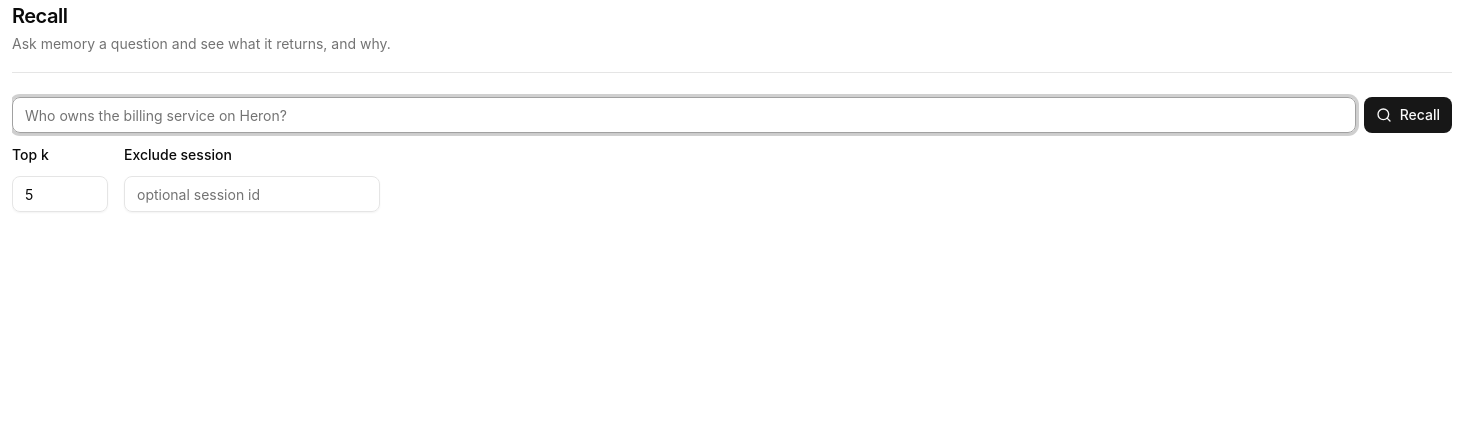
Test case: RecallPage › shows that a question was read as one about the past, and when a hit stopped holding
Type "who owned billing in April 2025?" into the field named "Query".
click(684, 115); type("who owned billing in April 2025?")  # box [12,97,1356,133]
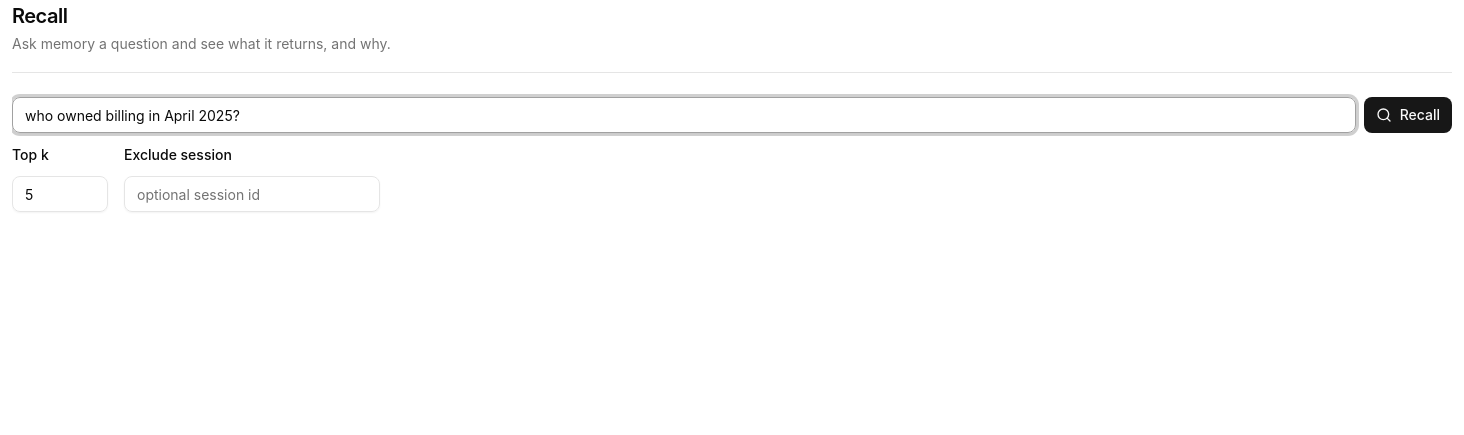
Click the button "Recall".
click(1408, 115)  # box [1364,97,1452,133]
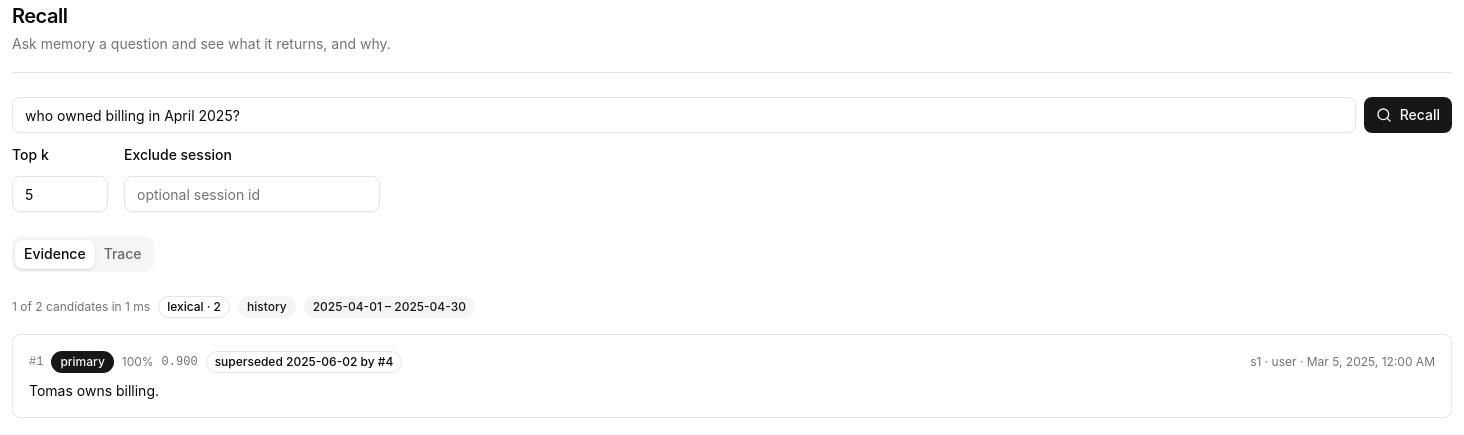
Check: the text "Tomas owns billing." is shown, box [29,382,159,399]
Check: the text "history" is shown, box [238,296,296,318]
Check: the text "2025-04-01 – 2025-04-30" is shown, box [304,296,475,318]
